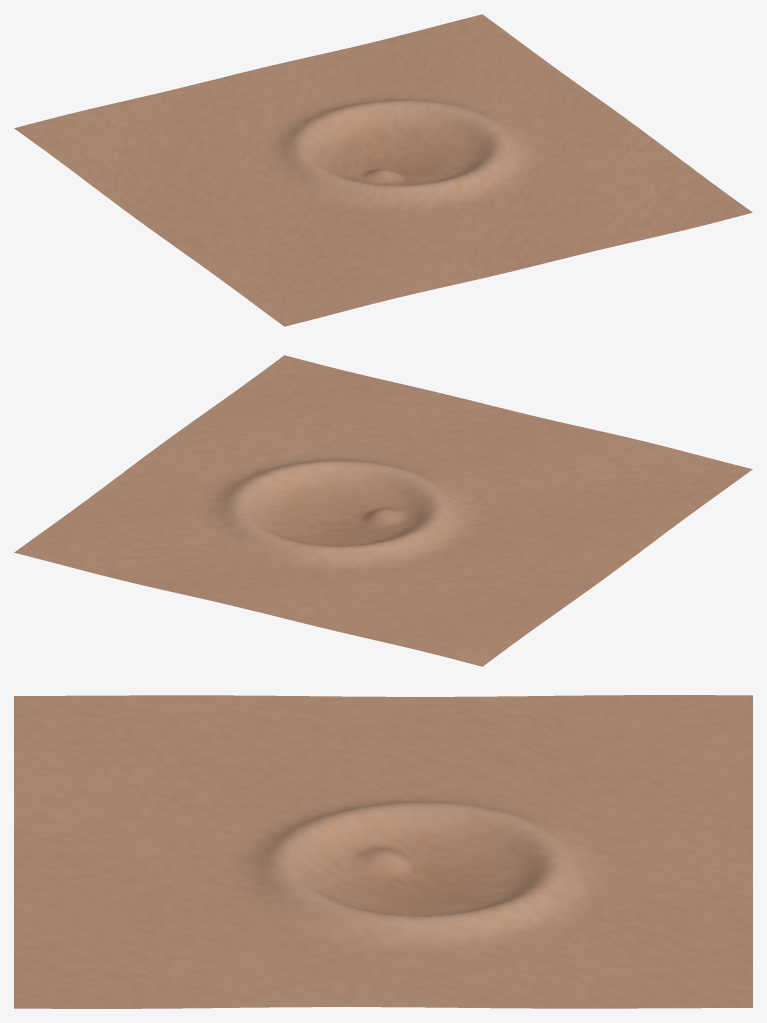
File: opportunity_meridiani.glb
3 renders of one model, top to bottom at view 1: azimuth 30°, elevation 25°; view 2: azimuth 150°, elevation 25°; view 3: azimuth 270°, elevation 25°, orthographic. The views are drawn at different scales.
Visible parts, largest first — view 1: TYPE_TILE_ID_0___MD_1_Opportunity_Eagle_Endeavour_Crater; view 2: TYPE_TILE_ID_0___MD_1_Opportunity_Eagle_Endeavour_Crater; view 3: TYPE_TILE_ID_0___MD_1_Opportunity_Eagle_Endeavour_Crater.
Boxes of the visible parts, left/top/right/bottom form: TYPE_TILE_ID_0___MD_1_Opportunity_Eagle_Endeavour_Crater: left=14, top=14, right=752, bottom=326; TYPE_TILE_ID_0___MD_1_Opportunity_Eagle_Endeavour_Crater: left=14, top=355, right=752, bottom=666; TYPE_TILE_ID_0___MD_1_Opportunity_Eagle_Endeavour_Crater: left=14, top=695, right=752, bottom=1008.
Size of the model in its own units: 120 by 4.66 by 120.
